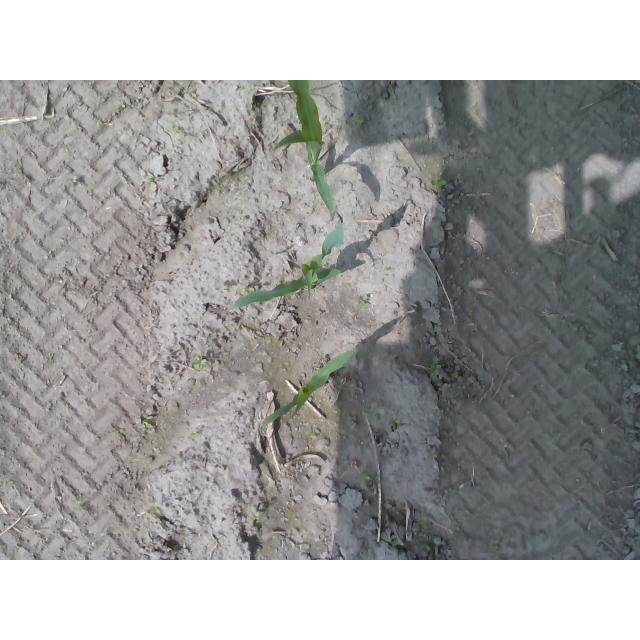Maize: (231, 222, 345, 313), (272, 80, 337, 214), (259, 350, 354, 431)
Weeds: (423, 176, 448, 193), (356, 467, 371, 490), (135, 415, 156, 429), (430, 356, 442, 376), (192, 356, 209, 369), (350, 115, 364, 129), (389, 417, 400, 431), (359, 295, 370, 306), (392, 535, 404, 545), (248, 512, 261, 521), (366, 407, 376, 417), (223, 280, 232, 289)
